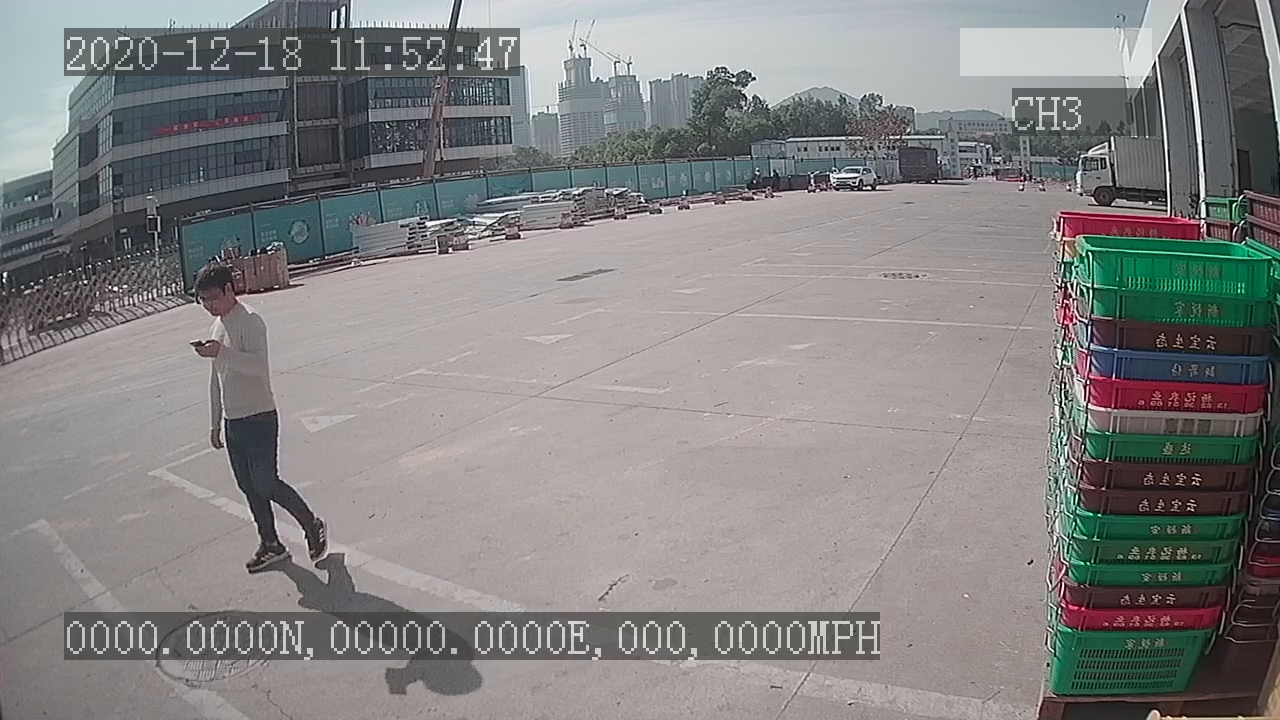person: (179, 256, 336, 581)
